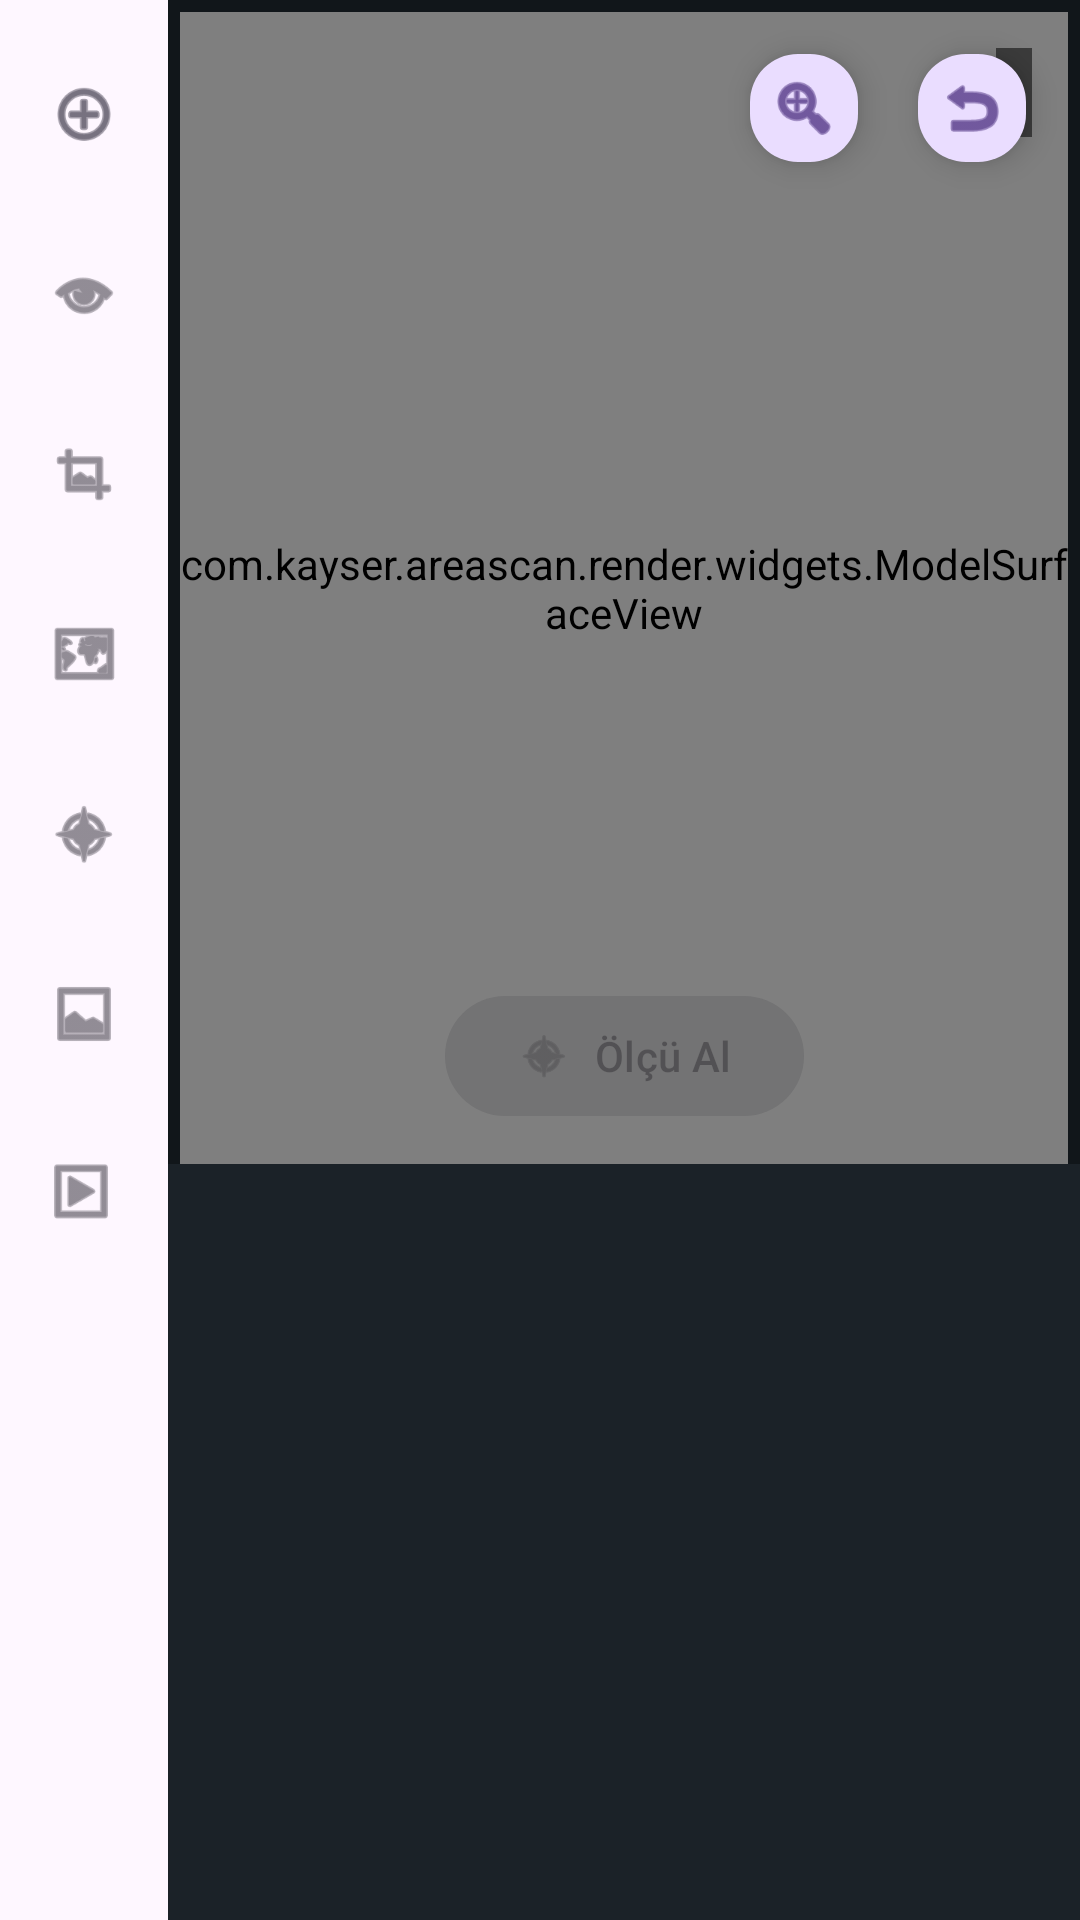

Icon click points for this 1080w x 1920h phone screenshot, format (x,y):
revert: (975,105)
zoom: (804,108)
